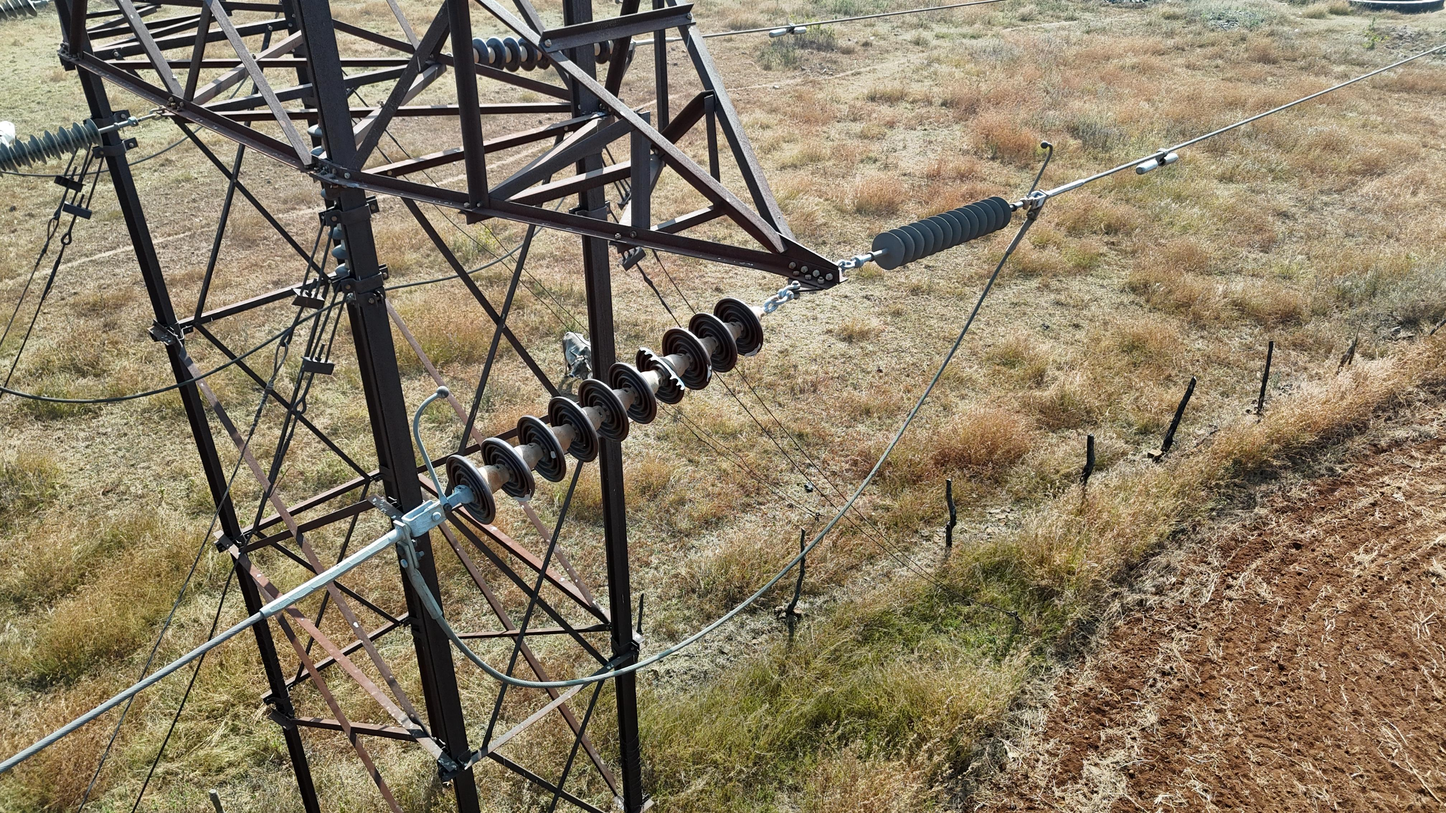broken_insulator: (480, 437, 539, 502), (662, 329, 716, 390), (716, 298, 769, 357), (636, 346, 686, 404)
